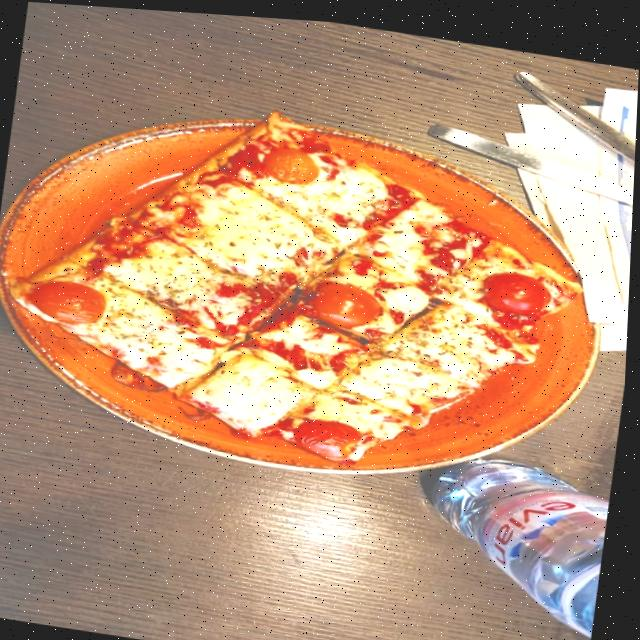pizza: (0, 67, 607, 494)
tomatoes: (304, 270, 387, 329), (23, 275, 111, 328), (478, 260, 557, 315), (291, 409, 370, 457), (263, 139, 321, 184)
